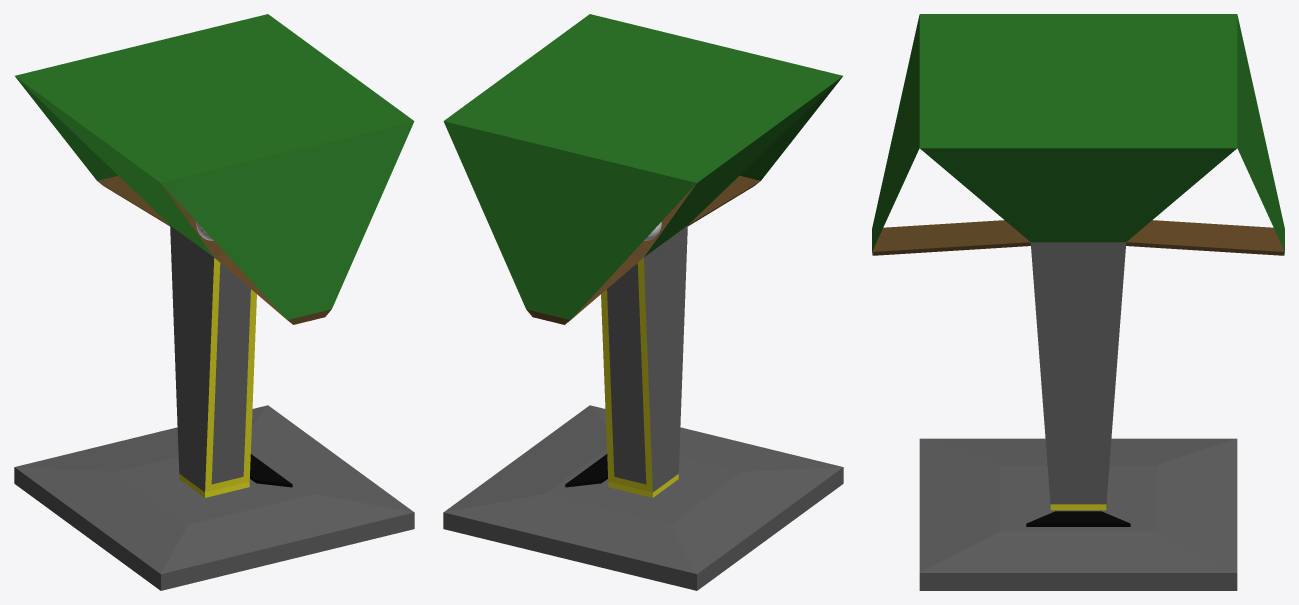
The model's file is Lamp.glb.
The picture shows the model from 3 angles, left to right: view 1: azimuth 30°, elevation 25°; view 2: azimuth 150°, elevation 25°; view 3: azimuth 270°, elevation 25°; orthographic projection. The views are drawn at different scales.
Visible parts, largest first — view 1: Body.col; view 2: Body.col; view 3: Body.col.
Boxes of the visible parts, box(x1,y1,x2,y2) form: Body.col: box(14, 14, 414, 590); Body.col: box(443, 14, 843, 590); Body.col: box(872, 14, 1284, 590).
Bounding box in the file's own units: 0.2032 × 0.3123 × 0.2639.
